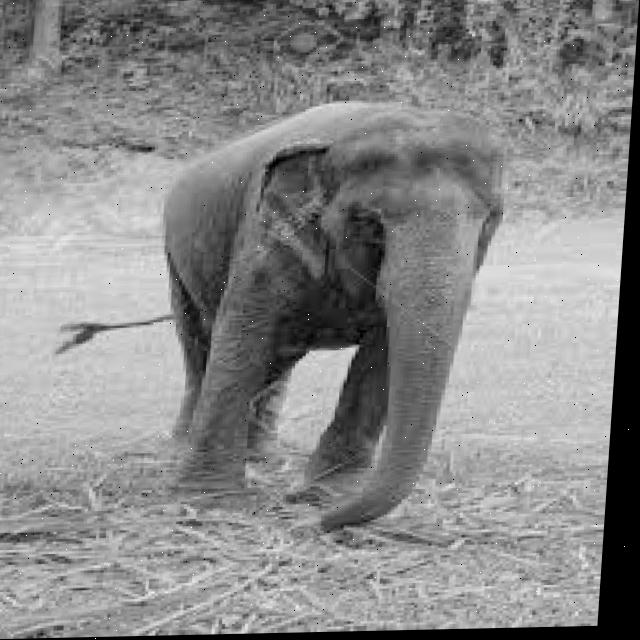Elephant: (139, 95, 511, 535)
